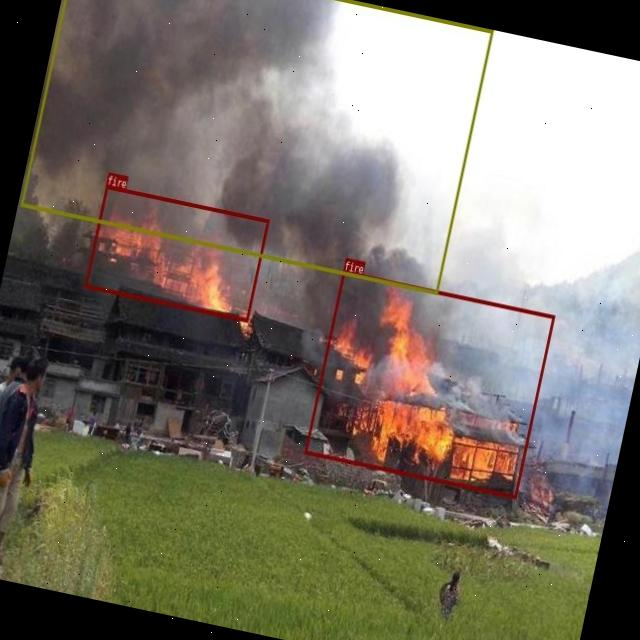fire: (303, 270, 554, 498), (84, 184, 269, 320)
smoke: (19, 0, 492, 293)
